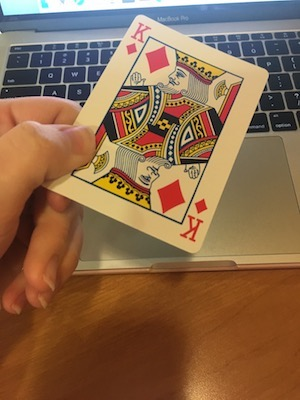KingOfDiamonds: (33, 7, 277, 256)
